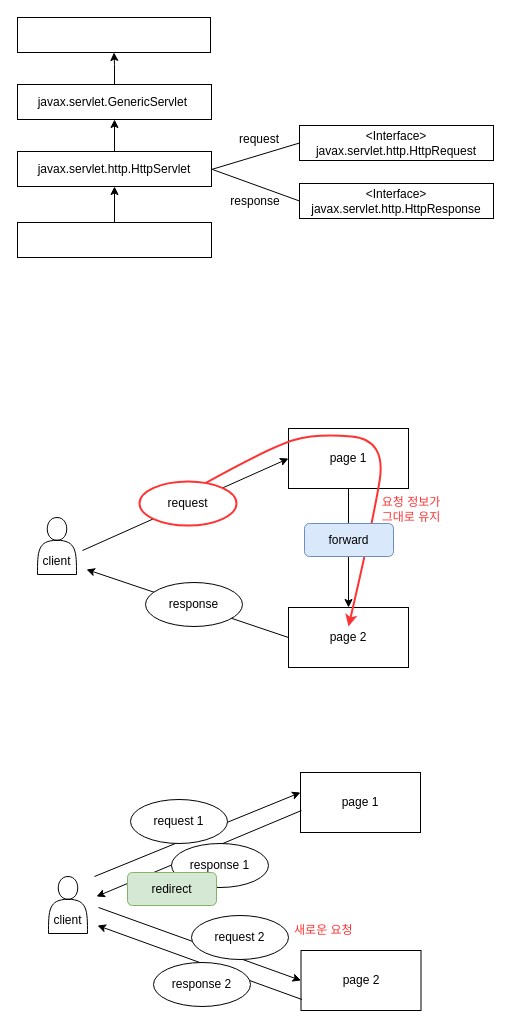
Some shapes in this 511 by 1028 pixel diagram are drawn without their labels. The centre of each missing label's shape, as x and y in pixels:
"<Interface> javax.servlet.Servlet" belongs at point (113, 34).
"사용자정의 Servlet 클래스" belongs at point (114, 240).
